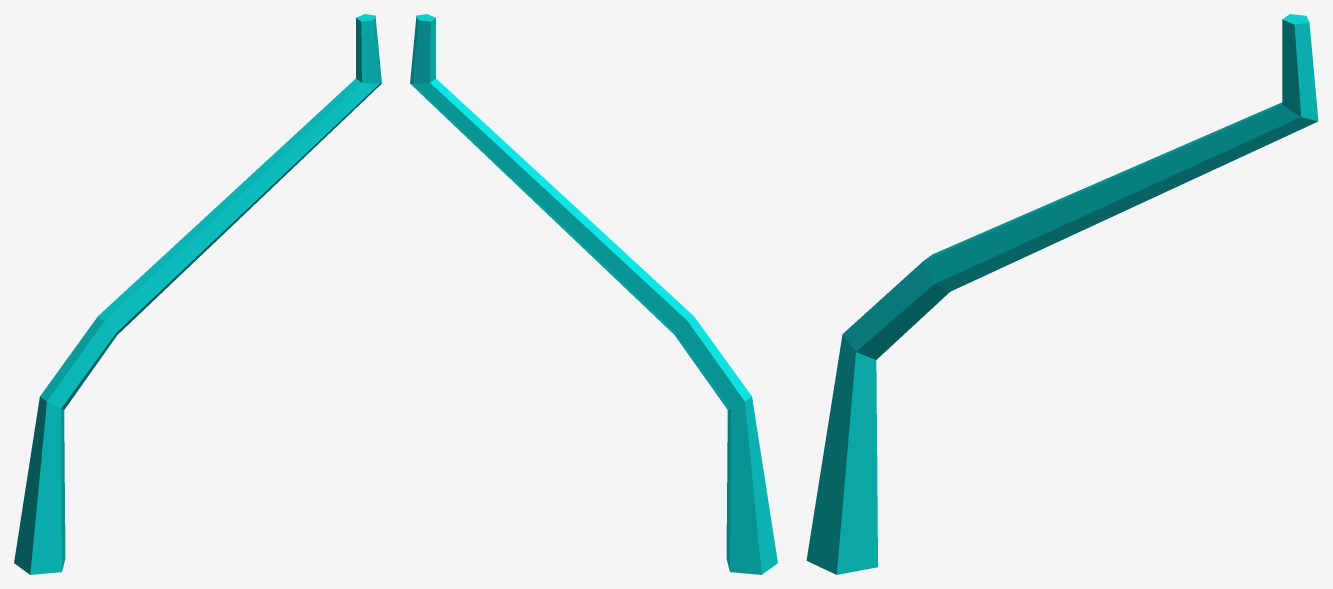
File: SM_Env_Palm_03_Collision.fbx
3 renders of one model, left to right at view 1: azimuth 30°, elevation 25°; view 2: azimuth 150°, elevation 25°; view 3: azimuth 330°, elevation 25°, orthographic. The views are drawn at different scales.
Parts seen in each view (by area): view 1: SM_Env_Palm_03_Collision; view 2: SM_Env_Palm_03_Collision; view 3: SM_Env_Palm_03_Collision.
Boxes of the visible parts, box(x1,y1,x2,y2) form: SM_Env_Palm_03_Collision: box(14, 14, 381, 574); SM_Env_Palm_03_Collision: box(410, 14, 777, 574); SM_Env_Palm_03_Collision: box(806, 14, 1318, 574).
Bounding box in the file's own units: 192 × 239 × 24.35.
